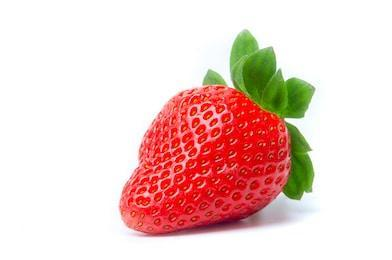Fresa: (114, 74, 302, 238)
